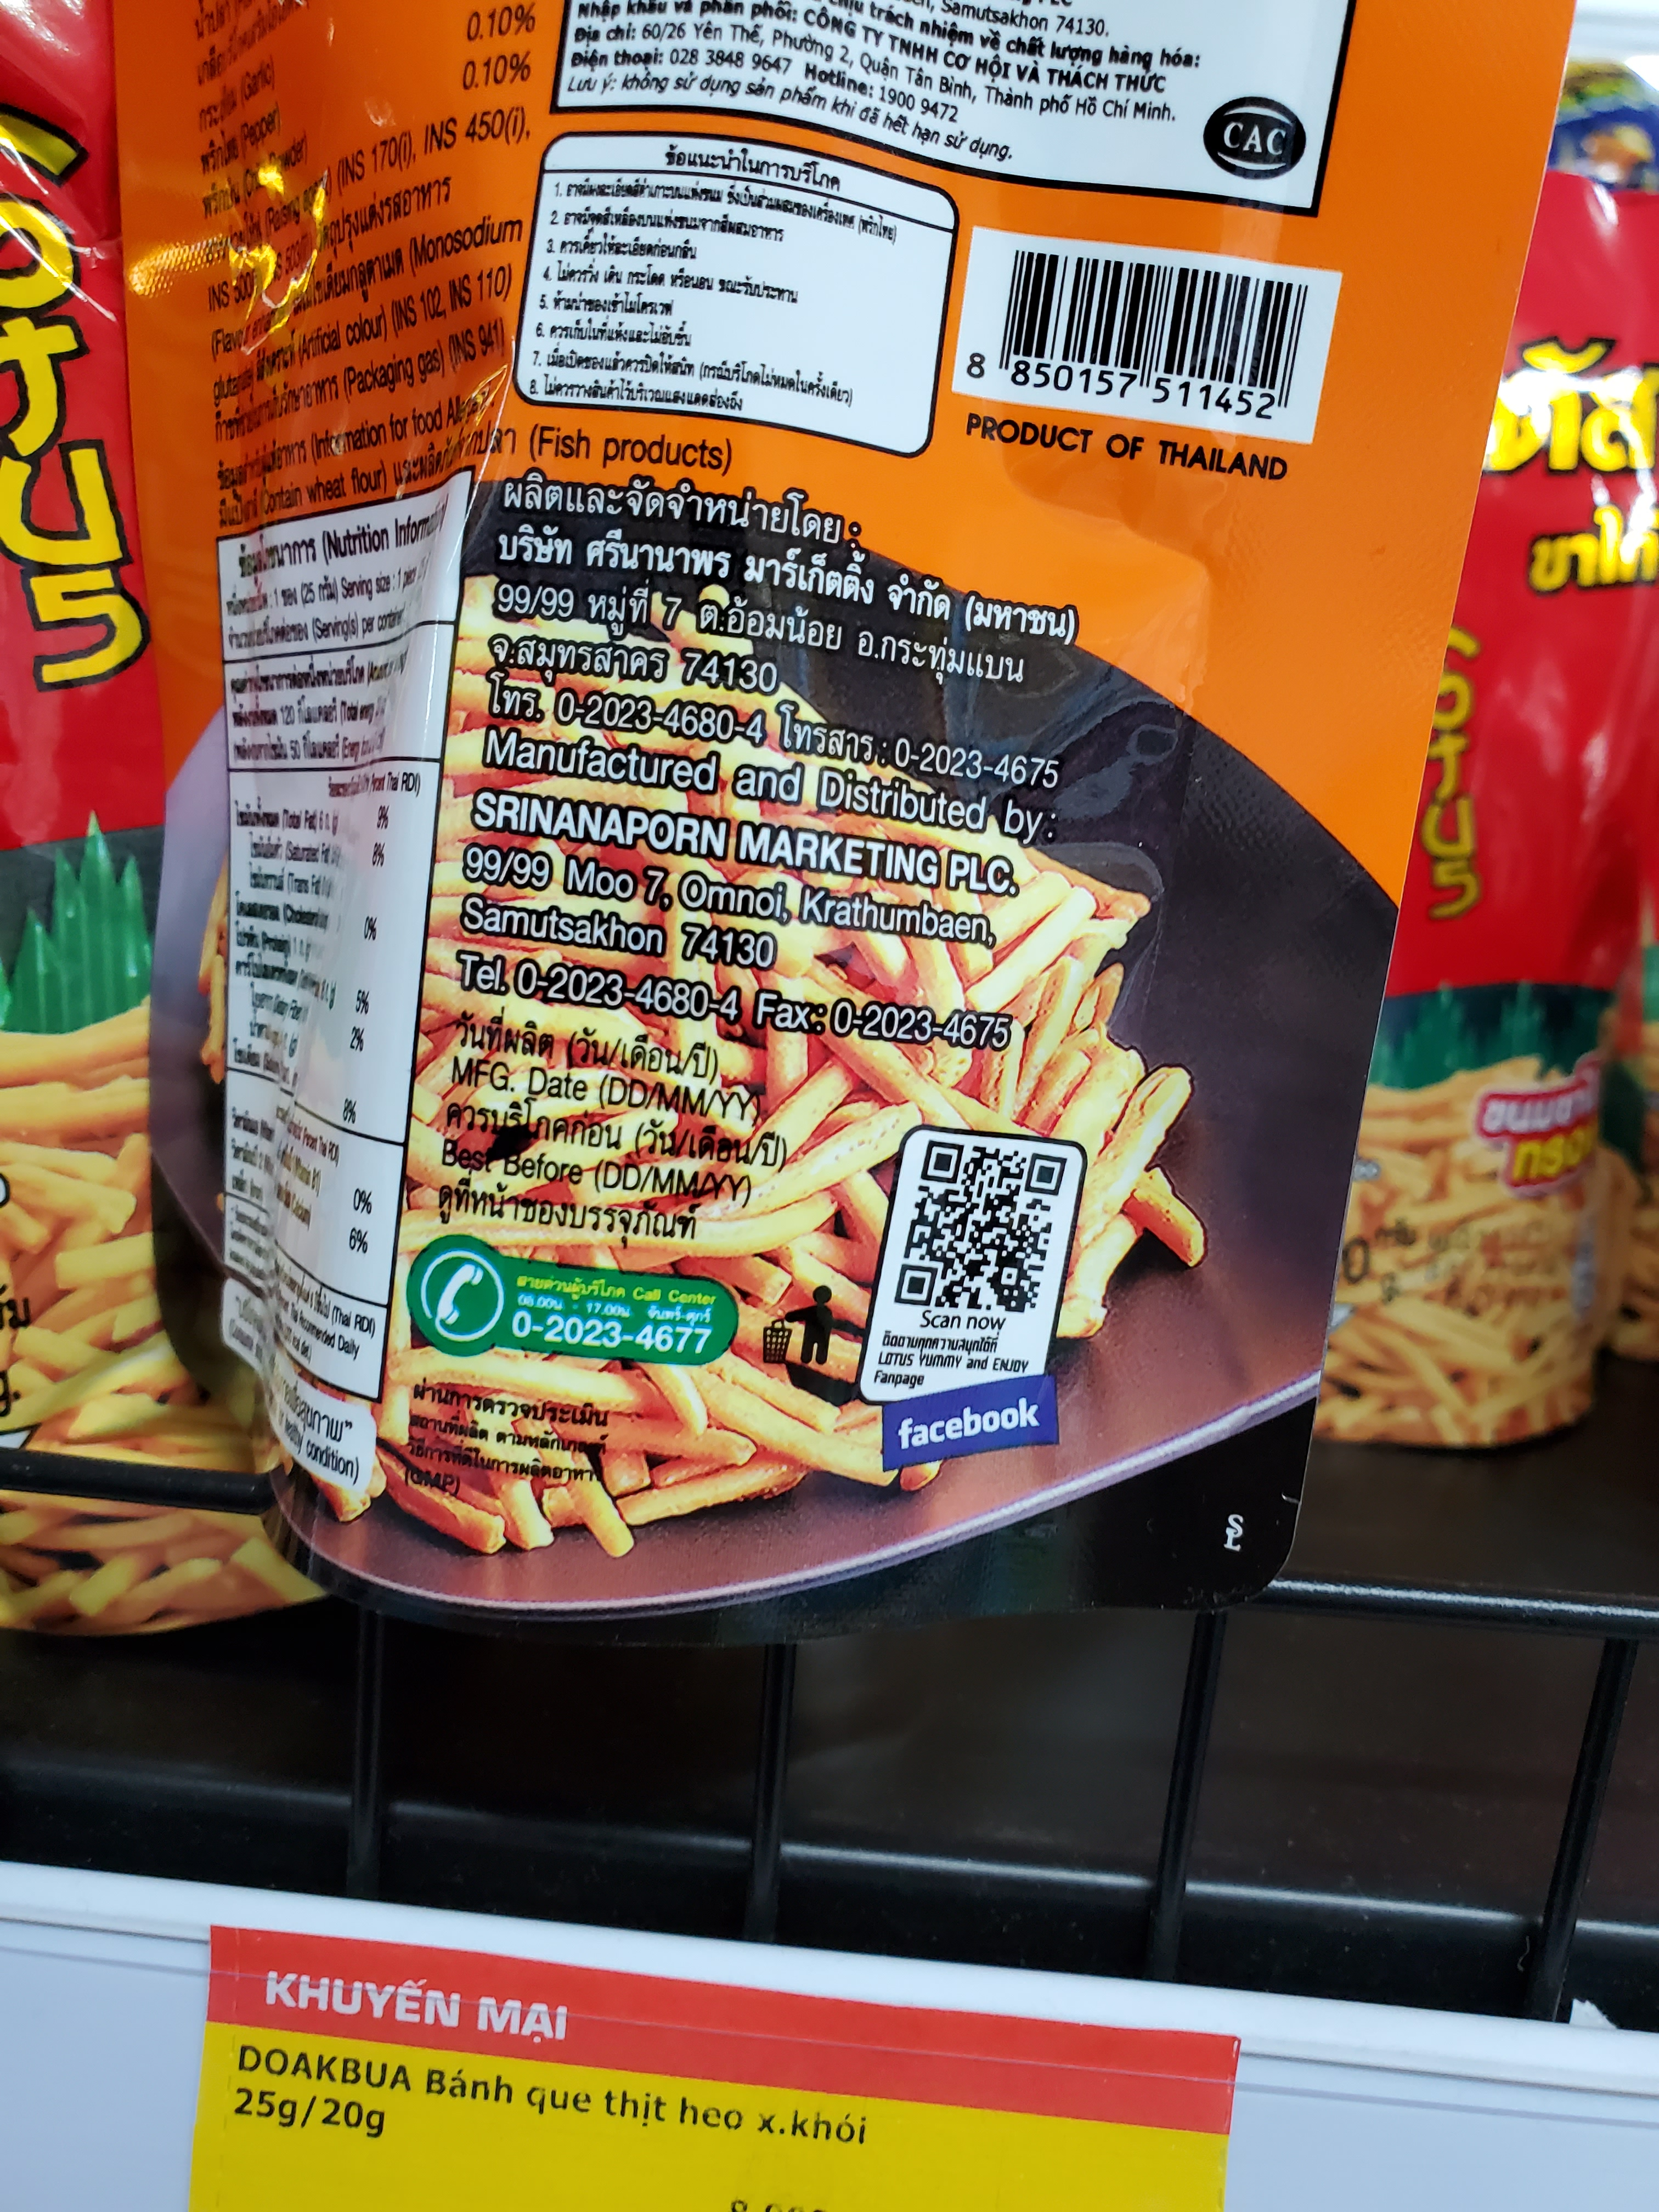barcode: (934, 235, 1340, 442)
qr code: (894, 1116, 1080, 1352)
